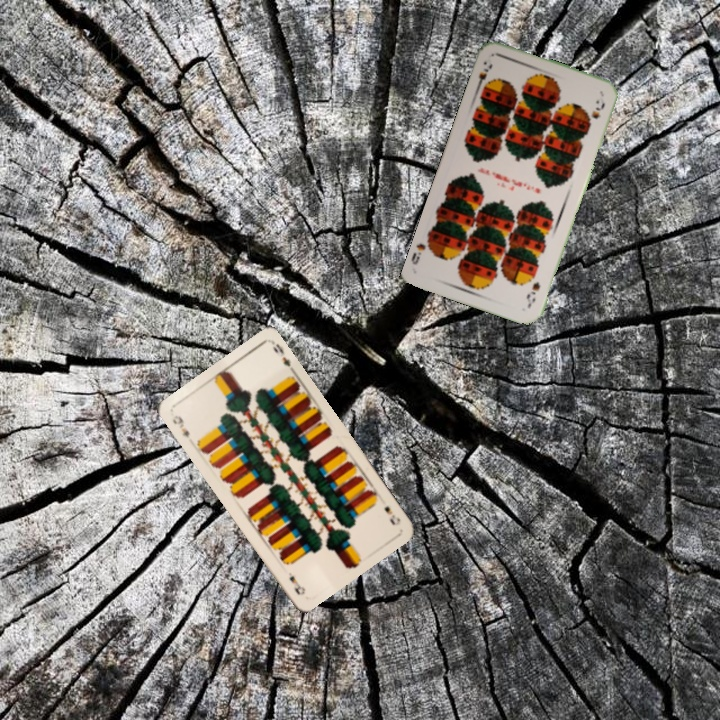E9: (168, 411, 192, 441), (380, 502, 403, 528)
S9: (473, 59, 495, 94), (523, 278, 543, 310)
